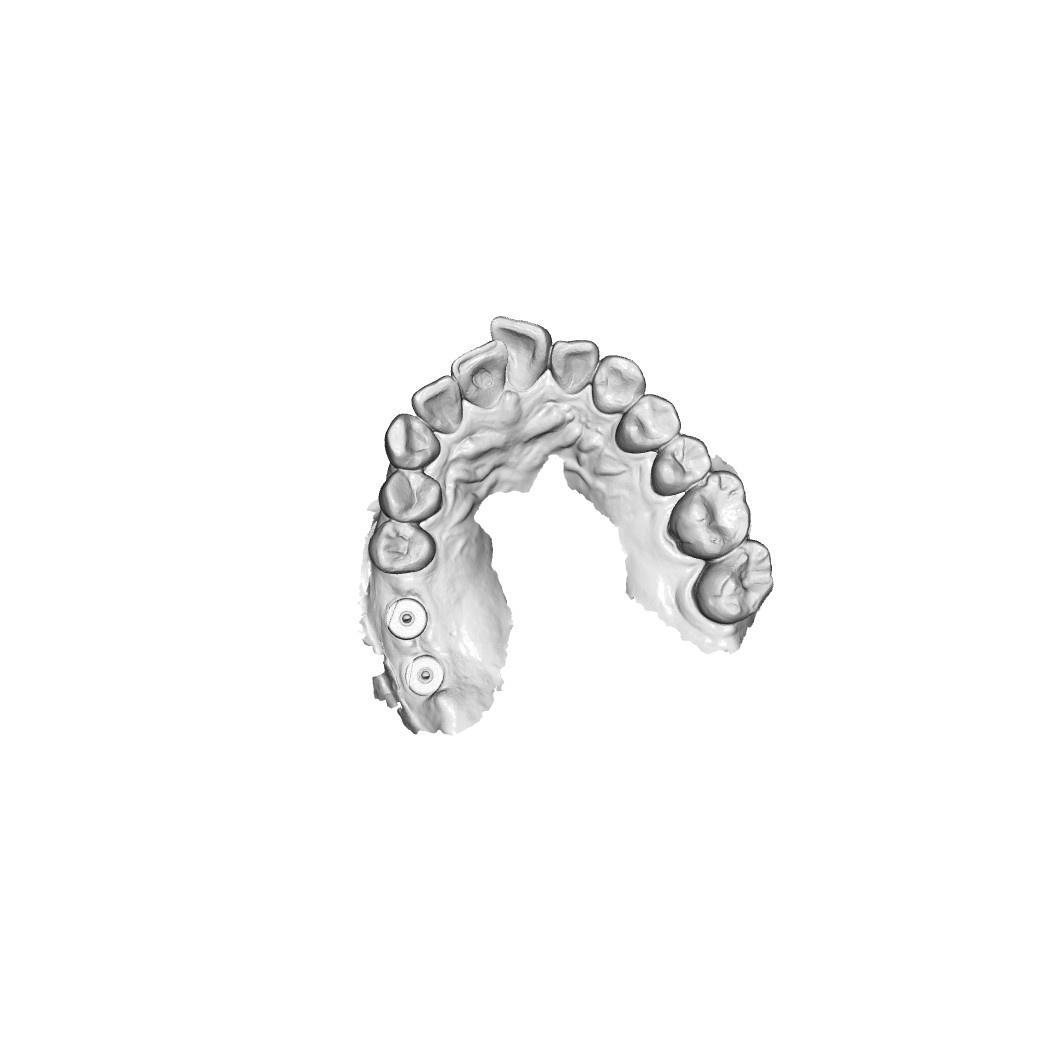canine: (587, 353, 646, 416), (381, 413, 443, 470)
implant: (381, 597, 435, 640), (403, 653, 445, 696)
incisor: (488, 315, 547, 393), (450, 339, 505, 410), (407, 374, 464, 436), (545, 338, 602, 396)
molar: (667, 468, 752, 559), (692, 538, 775, 625)
premolar: (614, 391, 683, 455), (373, 468, 445, 525), (649, 432, 712, 494), (367, 521, 437, 576)
